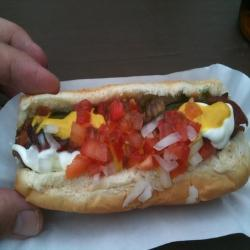hotdog: (11, 76, 249, 216)
